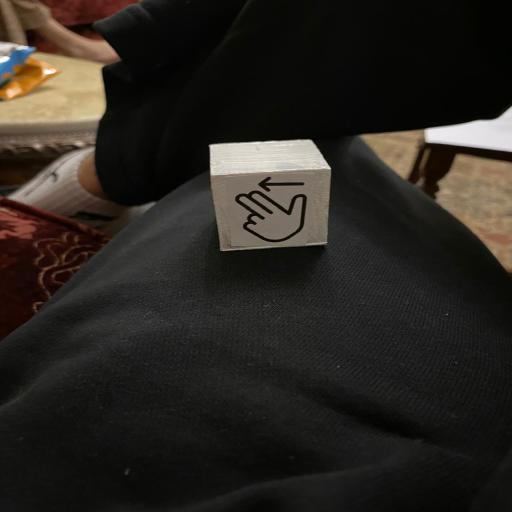LeftSwipe: (208, 139, 332, 251)
